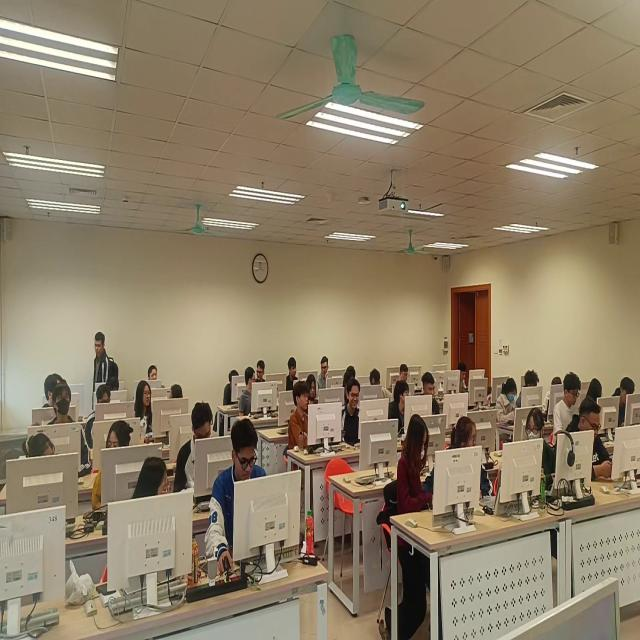raise_head: (288, 384, 326, 465), (47, 387, 87, 447), (337, 381, 369, 443), (133, 381, 161, 440), (145, 361, 167, 390), (284, 359, 303, 391), (319, 357, 334, 395)
stand: (91, 332, 115, 426)
using_computer: (213, 425, 285, 588), (564, 401, 630, 497), (449, 414, 502, 516), (175, 404, 221, 506), (24, 431, 76, 518), (85, 388, 119, 454), (551, 373, 584, 434), (497, 373, 524, 436), (421, 374, 456, 422), (518, 371, 550, 419), (611, 379, 640, 429), (218, 367, 247, 412), (455, 362, 483, 400), (368, 370, 387, 400)
